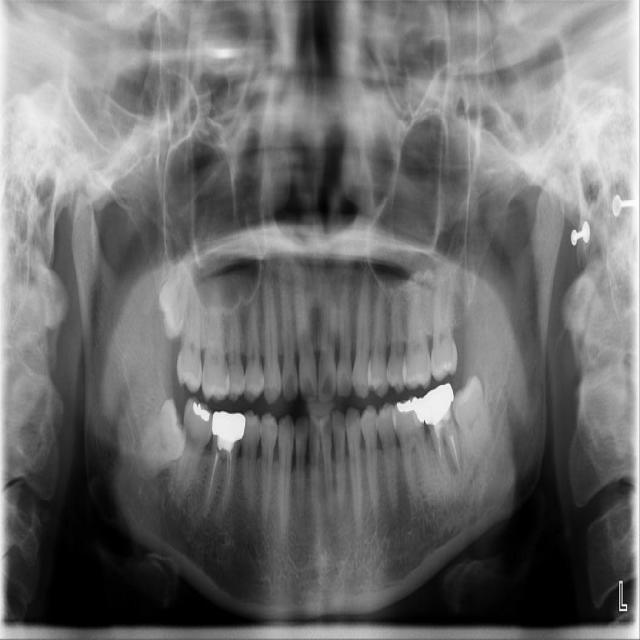Crown: (424, 382, 457, 431), (211, 411, 244, 439)
Filling: (397, 396, 425, 423), (193, 401, 210, 421)
Periapical lesion: (459, 454, 466, 480)
Root Canal Treatment: (449, 434, 463, 472), (208, 451, 218, 502), (223, 450, 229, 494), (226, 451, 232, 493), (436, 428, 442, 460)
impacted tooth: (133, 399, 186, 477), (454, 376, 491, 458), (161, 249, 190, 343)
